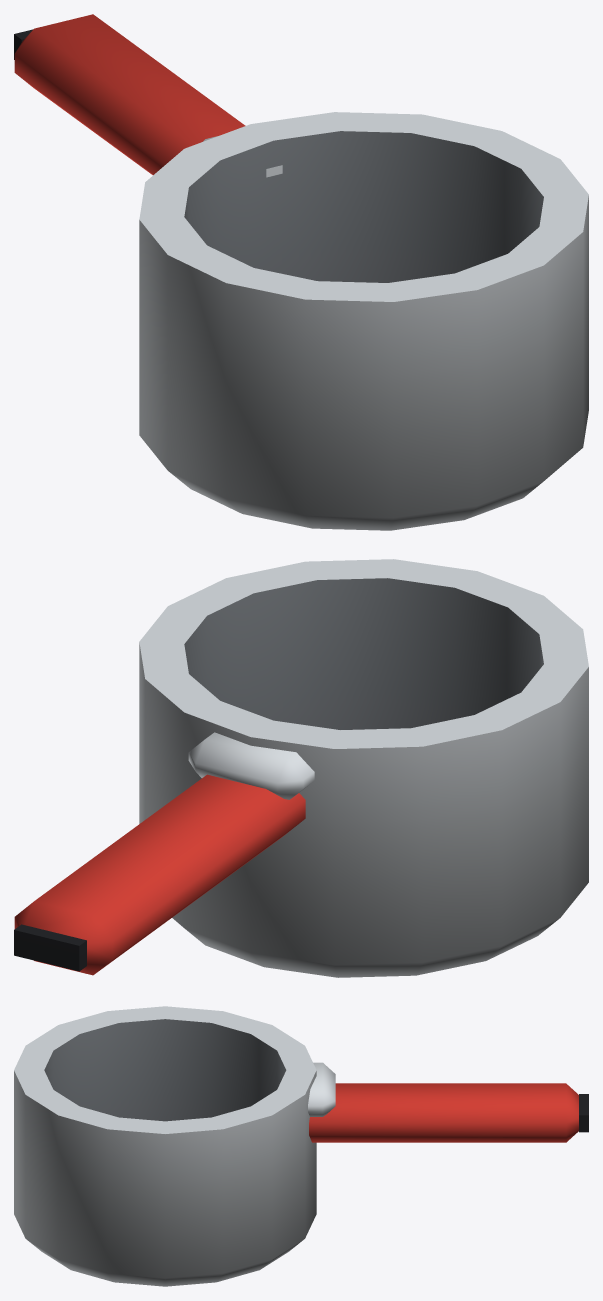
The model's file is SM_SaucePot_Com_01.glb.
The picture shows the model from 3 angles, top to bottom: view 1: azimuth 30°, elevation 25°; view 2: azimuth 150°, elevation 25°; view 3: azimuth 270°, elevation 25°; orthographic projection. The views are drawn at different scales.
Visible parts, largest first — view 1: SM_SaucePot_Com_01; view 2: SM_SaucePot_Com_01; view 3: SM_SaucePot_Com_01.
Part boxes in pixels (x1,y1,x2,y2): SM_SaucePot_Com_01: [14, 14, 588, 530]; SM_SaucePot_Com_01: [14, 559, 588, 977]; SM_SaucePot_Com_01: [14, 1006, 588, 1286].
Size of the model in its own units: 0.24 by 0.14 by 0.456.
1 material, 1 textured.
